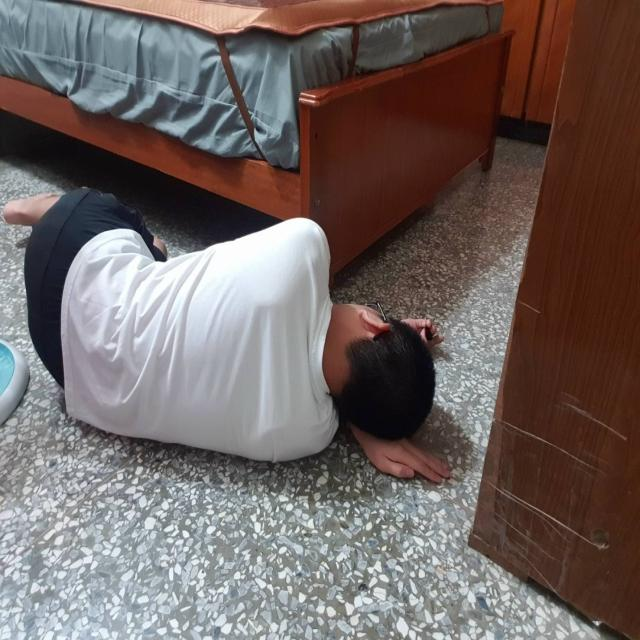lie: (2, 185, 475, 503)
